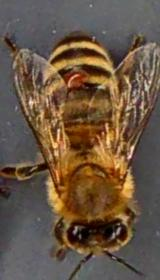varroa_mite: (55, 66, 96, 97)
